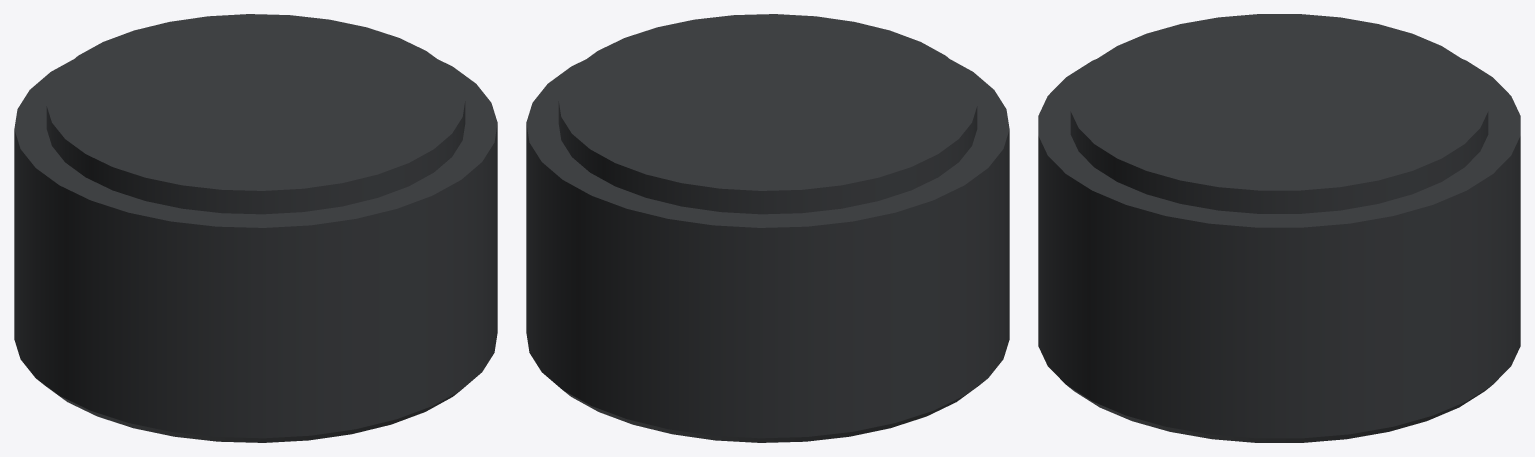
The picture shows the model from 3 angles, left to right: view 1: azimuth 30°, elevation 25°; view 2: azimuth 150°, elevation 25°; view 3: azimuth 270°, elevation 25°; orthographic projection.
Parts seen in each view (by area): view 1: can; view 2: can; view 3: can.
Boxes of the visible parts, box(x1,y1,x2,y2) form: can: box(14, 14, 497, 442); can: box(526, 14, 1009, 442); can: box(1038, 14, 1520, 442).
Bounding box in the file's own units: 0.1493 × 0.083 × 0.1493.
